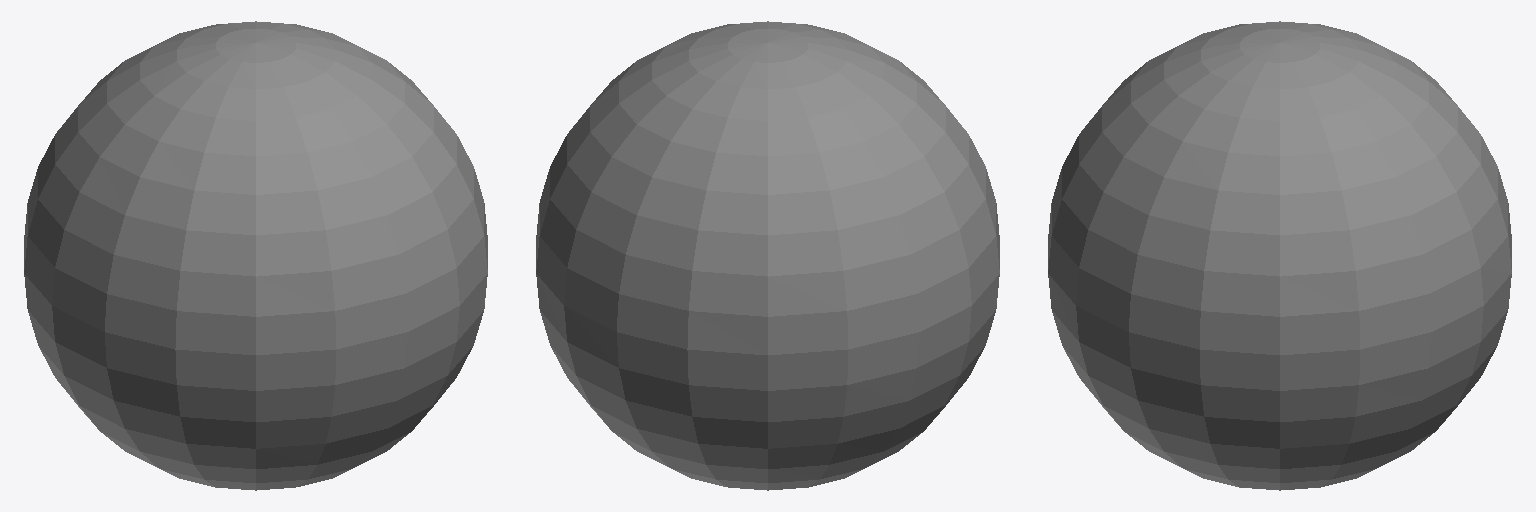
Rendered from bullet.obj.
The picture shows the model from 3 angles: view 1: azimuth 30°, elevation 25°; view 2: azimuth 150°, elevation 25°; view 3: azimuth 270°, elevation 25°; orthographic projection.
Parts seen in each view (by area): view 1: blackbullet; view 2: blackbullet; view 3: blackbullet.
Part boxes in pixels (bbox=[...]): blackbullet: bbox=[24, 21, 487, 490]; blackbullet: bbox=[536, 21, 999, 490]; blackbullet: bbox=[1048, 21, 1511, 490].
Size of the model in its own units: 0.464 by 0.464 by 0.457.